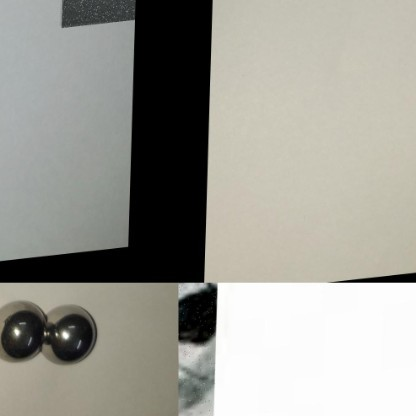ironball: (177, 283, 214, 409), (39, 301, 109, 364), (0, 296, 47, 363), (61, 0, 137, 34)
